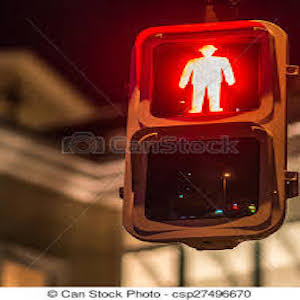red: (173, 39, 240, 115)
